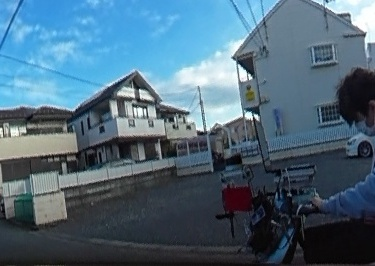person: (302, 67, 375, 266)
